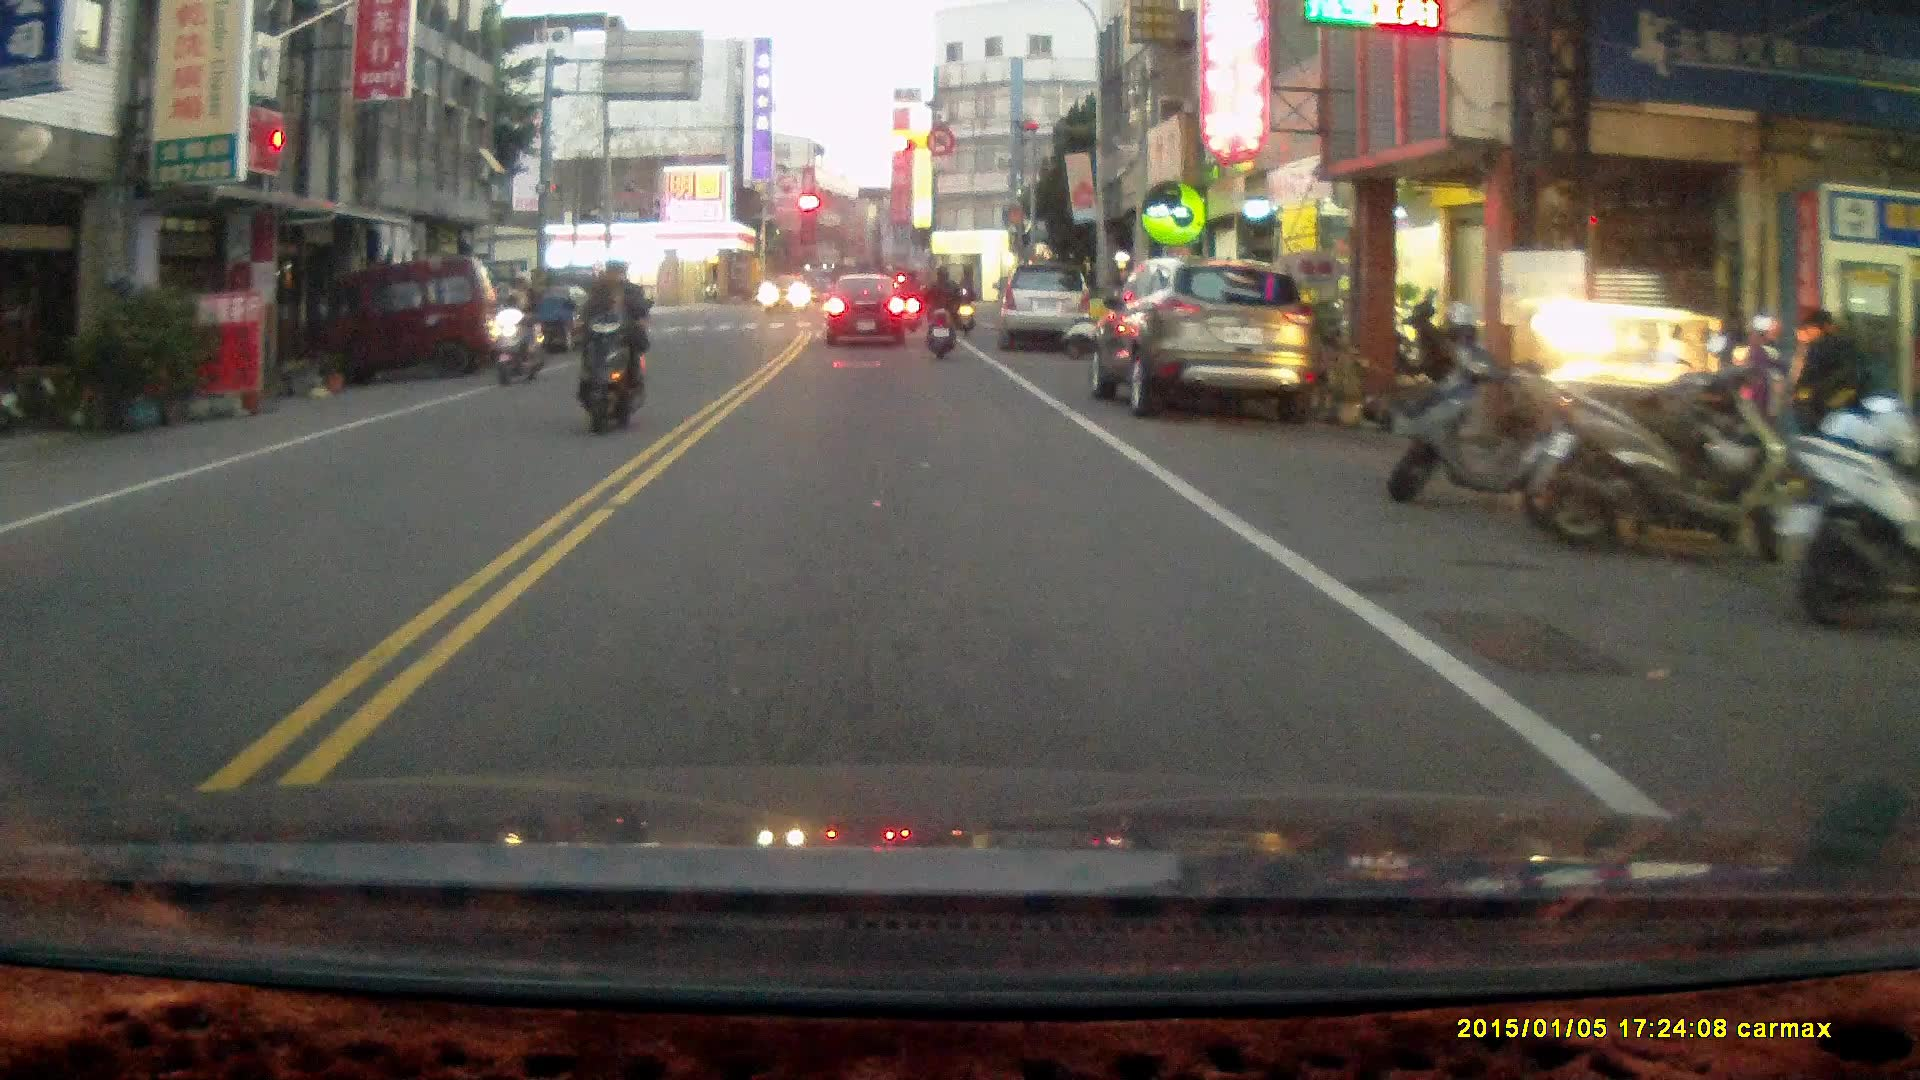pedestrian: (1792, 309, 1869, 491), (1731, 312, 1786, 472)
rider: (566, 255, 648, 435), (490, 268, 548, 387), (916, 263, 961, 361), (954, 271, 978, 336), (899, 268, 925, 329)
vehicle: (1092, 257, 1320, 425), (301, 254, 508, 390), (1001, 263, 1093, 352), (825, 276, 913, 345)
